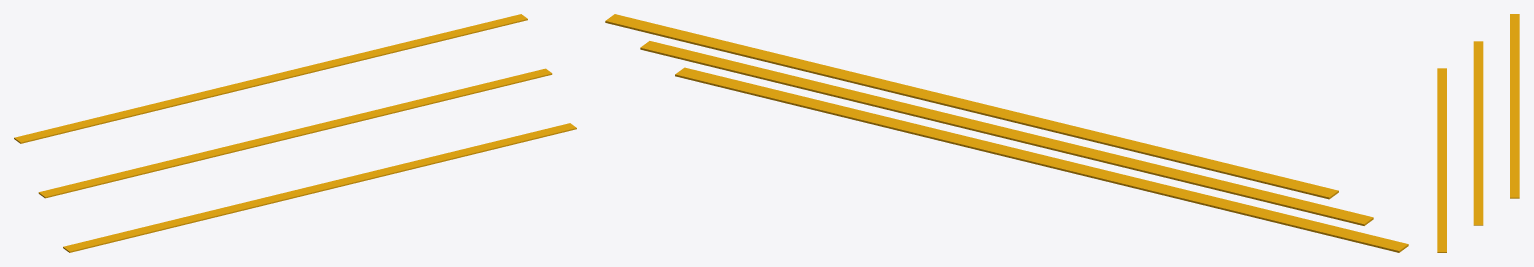
Rendered from gteki_ik_stair_n3_r167_t202_w2436_nosing.glb.
The picture shows the model from 3 angles, left to right: view 1: azimuth 30°, elevation 25°; view 2: azimuth 150°, elevation 25°; view 3: azimuth 270°, elevation 25°; orthographic projection. The views are drawn at different scales.
Visible parts, largest first — view 1: VIS_body; view 2: VIS_body; view 3: VIS_body.
Part boxes in pixels (left/top/right/bottom): VIS_body: left=14, top=14, right=576, bottom=252; VIS_body: left=605, top=14, right=1408, bottom=252; VIS_body: left=1437, top=14, right=1519, bottom=252.
Size of the model in its own units: 2.42 by 0.34 by 0.459.
1 material, 1 textured.
